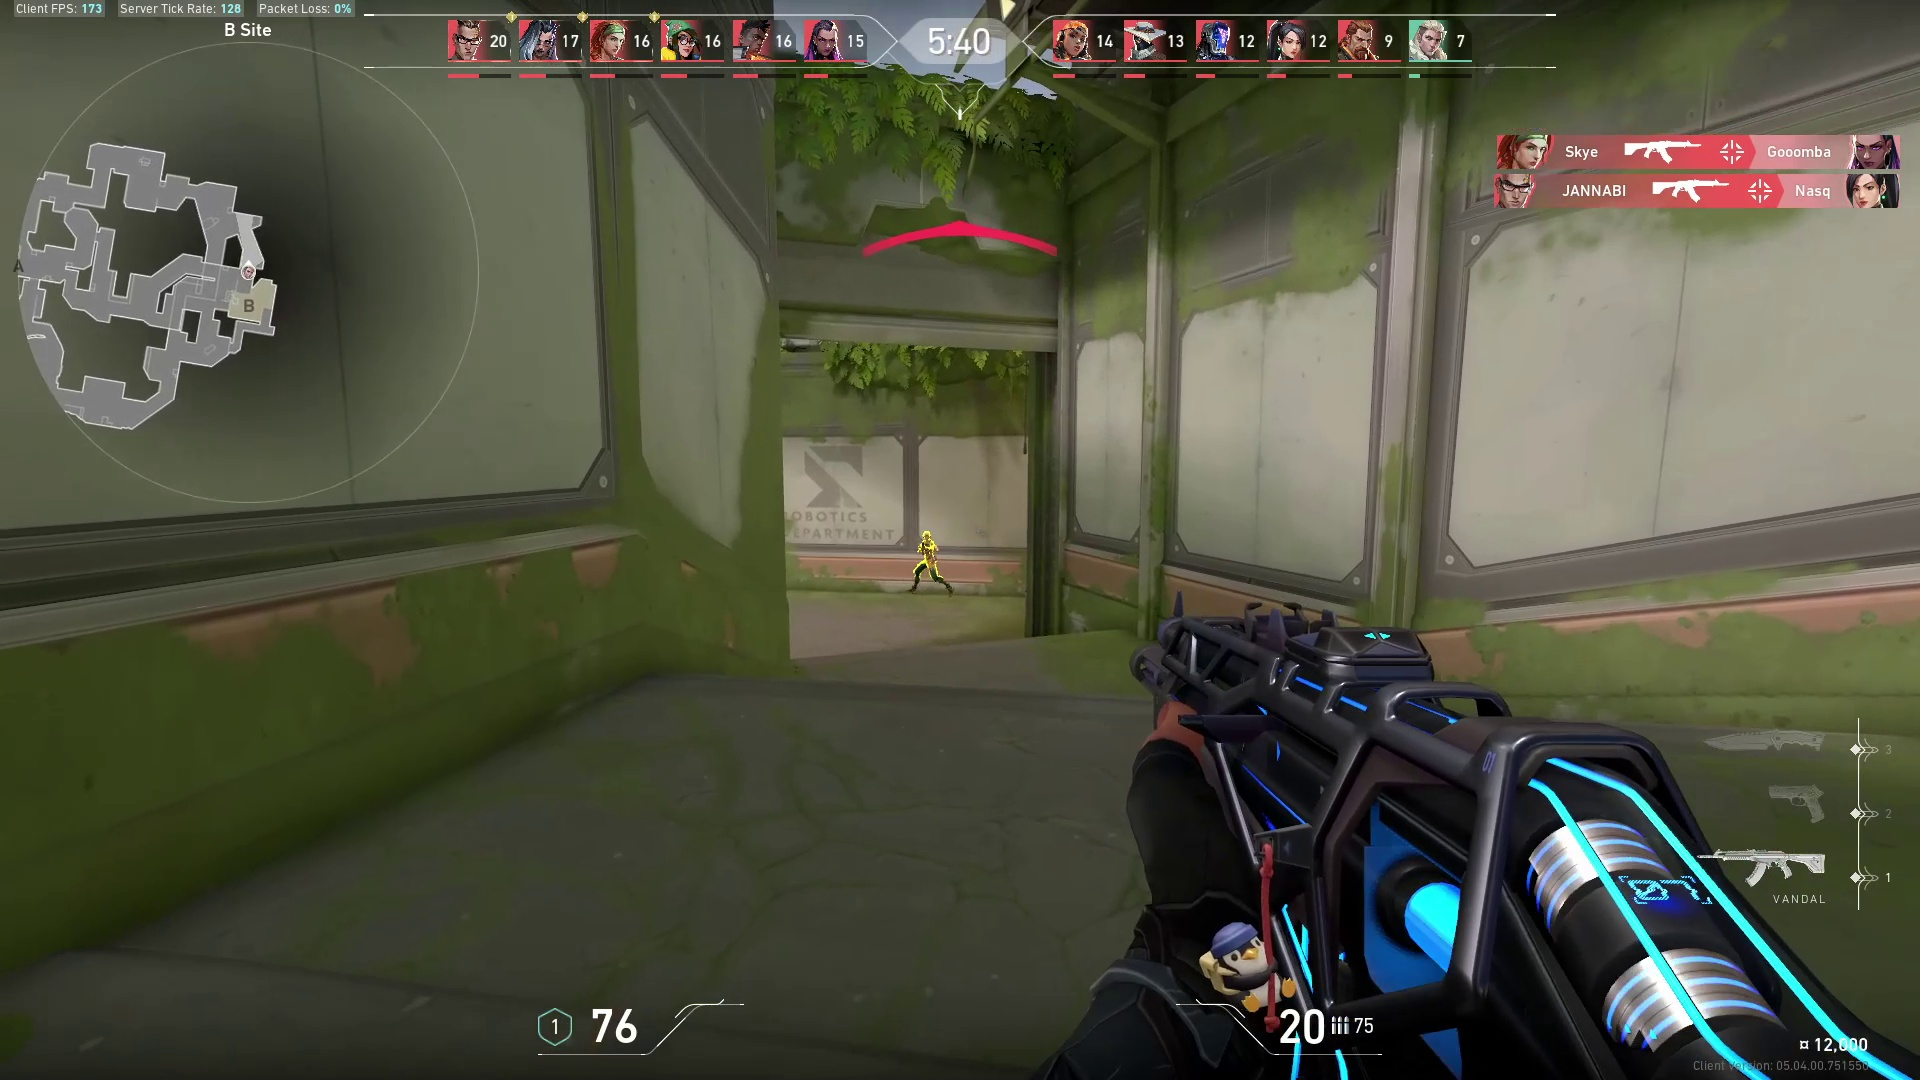enemy_body: (906, 541, 957, 597)
enemy_head: (920, 529, 932, 541)
